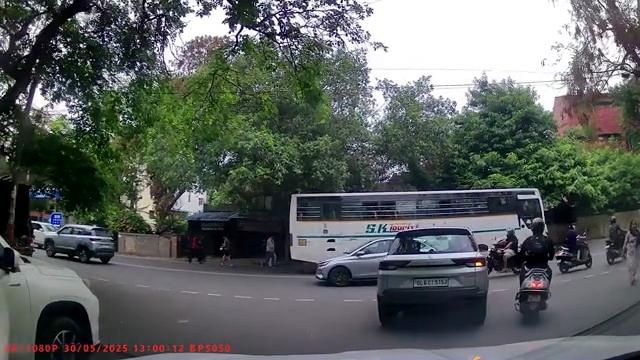motorcycle_with_helmet: (513, 218, 554, 318), (556, 223, 594, 273), (487, 227, 520, 274), (606, 214, 626, 265)
